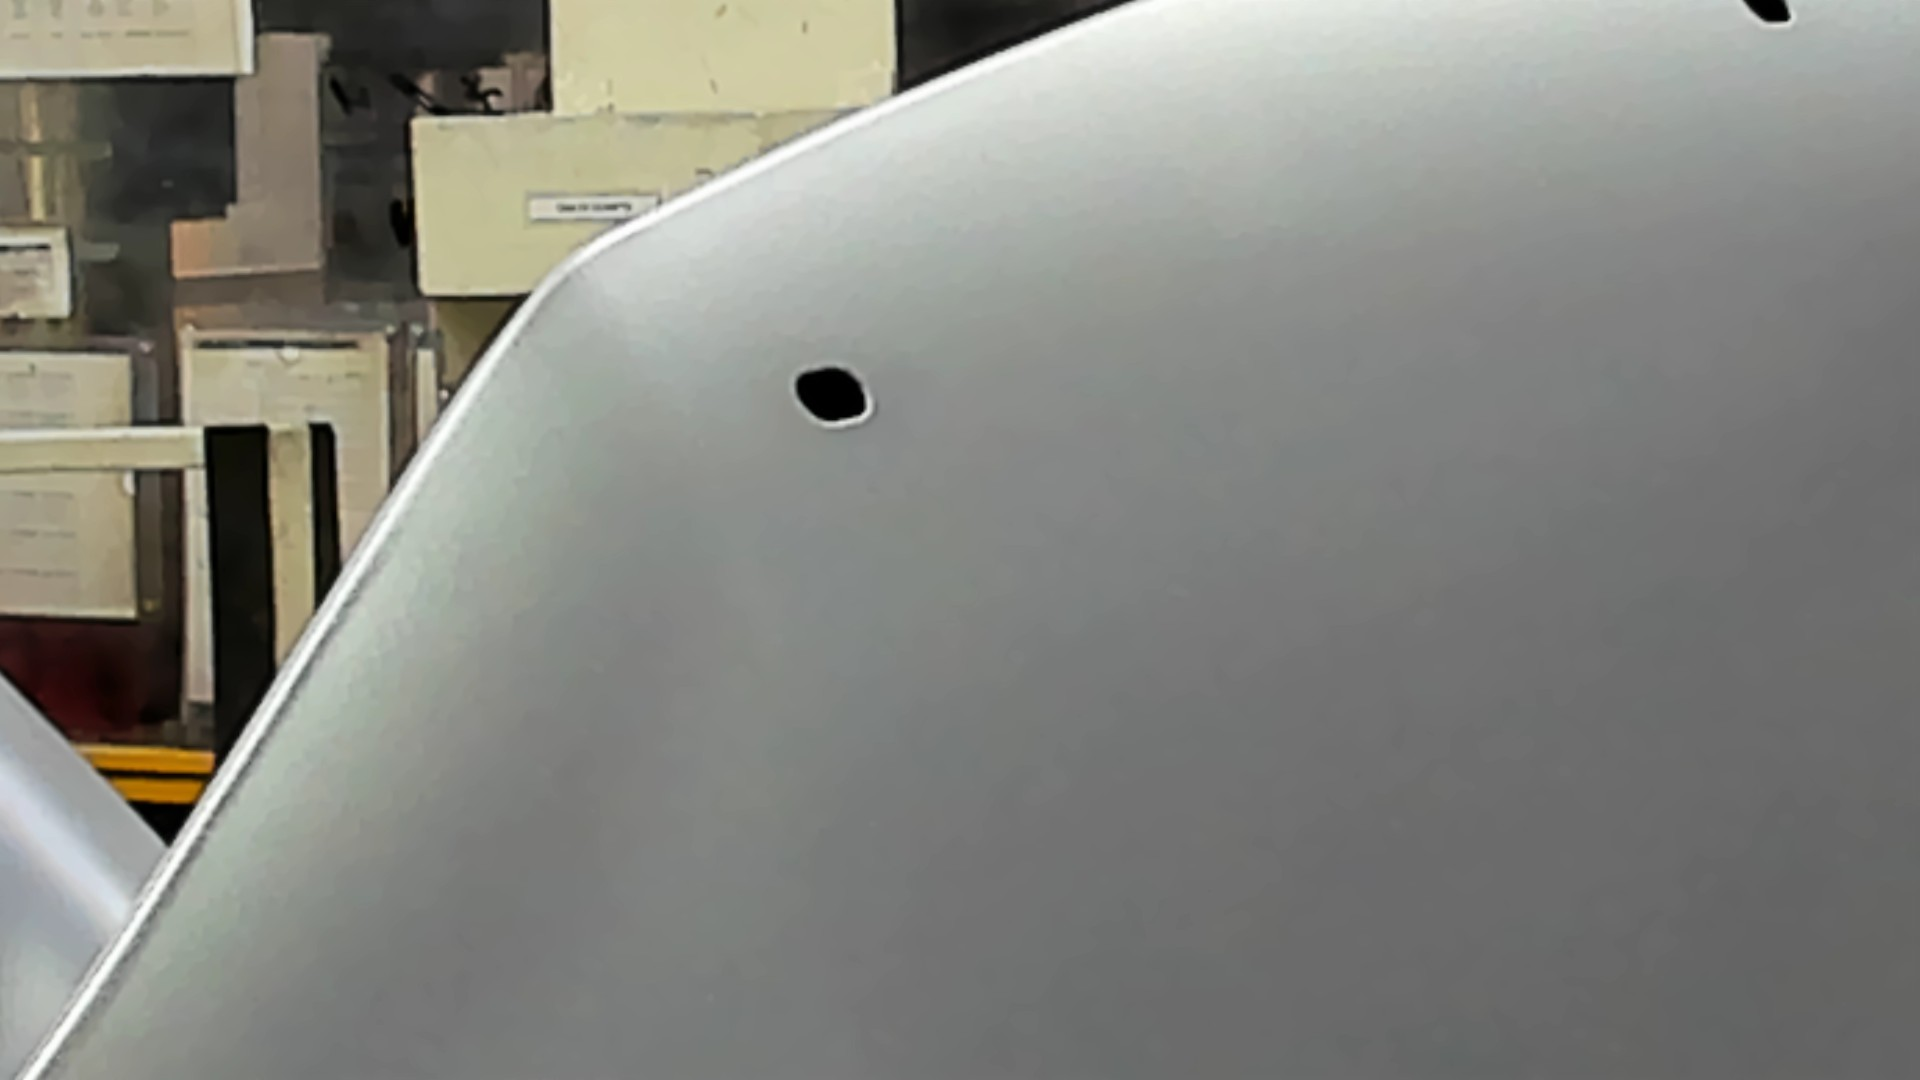amorfo: (786, 360, 876, 427), (1739, 1, 1805, 33)
